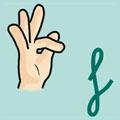F: (7, 4, 64, 90)
